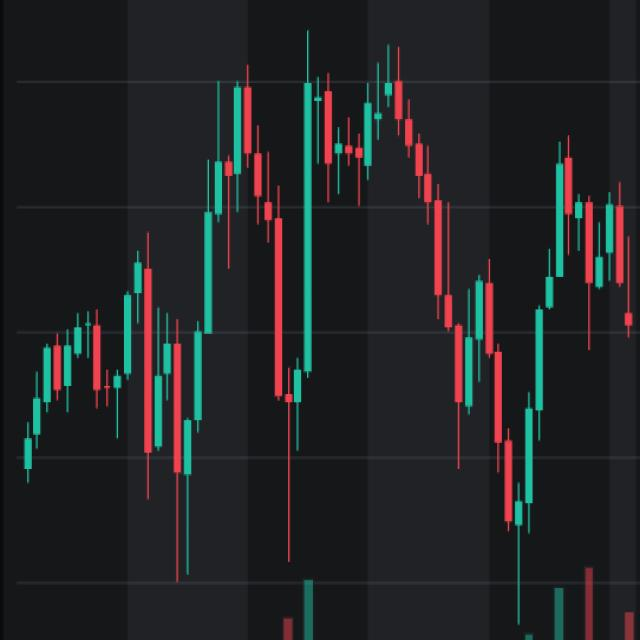Resistance-Emerging: (187, 65, 640, 528)
